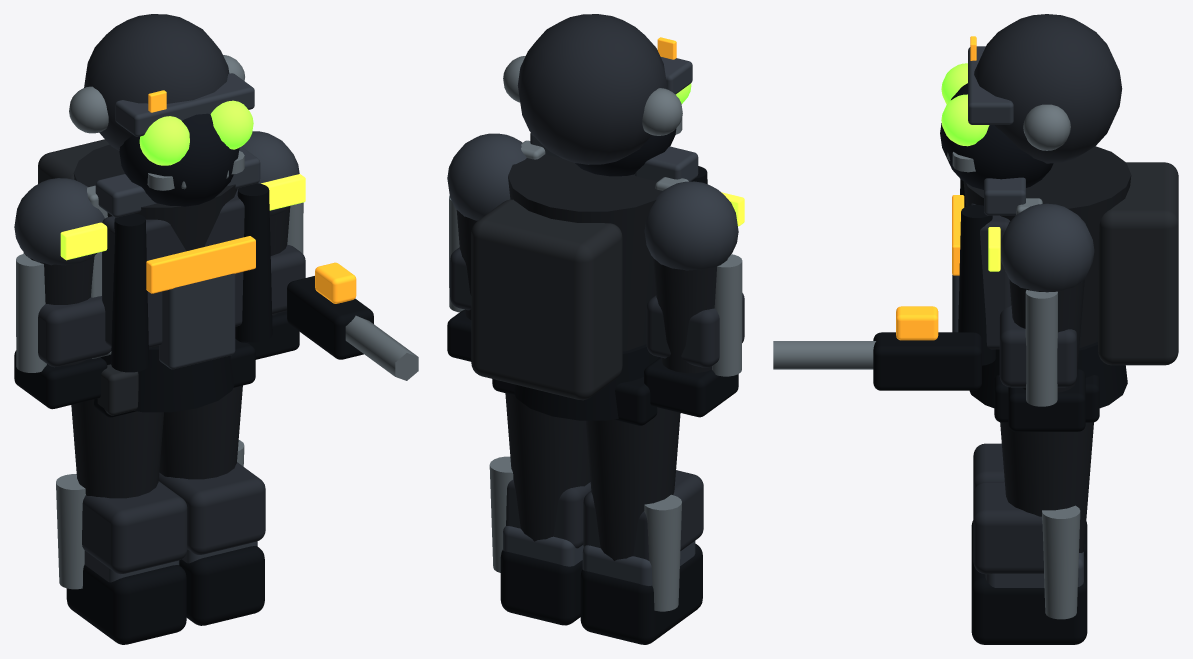
File: assault_l01.glb
The picture shows the model from 3 angles, left to right: view 1: azimuth 30°, elevation 25°; view 2: azimuth 150°, elevation 25°; view 3: azimuth 270°, elevation 25°; orthographic projection. The views are drawn at different scales.
Visible parts, largest first — view 1: shaped_knee_guard (×2), trouser (×2), boot (×2), rounded_helmet, vest_tether (×2), shoulder_joint (×2), front_plate, enclosed_mask, forearm_plate (×2), segmented_vest, waist_flex, glove (×2) (+19 smaller); view 2: field_pack, trouser (×2), rounded_helmet, shoulder_joint (×2), boot (×2), body, shin_frame (×2), shaped_knee_guard (×2), sleeve (×2), glove (×2), forearm_plate (×2), shin_plate (×2) (+7 smaller); view 3: field_pack, rounded_helmet, trouser, body, shoulder_joint, shaped_knee_guard (×2), boot, carbine_body, shin_frame, forearm_seam, enclosed_mask, vest_tether (+16 smaller).
Boxes of the visible parts, left/top/right/bottom form: shaped_knee_guard (×2): left=82, top=462, right=265, bottom=574; trouser (×2): left=71, top=385, right=242, bottom=498; boot (×2): left=66, top=546, right=264, bottom=644; rounded_helmet: left=84, top=14, right=229, bottom=150; vest_tether (×2): left=111, top=183, right=272, bottom=372; shoulder_joint (×2): left=14, top=131, right=299, bottom=265; front_plate: left=159, top=273, right=235, bottom=369; enclosed_mask: left=119, top=113, right=239, bottom=206; forearm_plate (×2): left=38, top=245, right=305, bottom=367; segmented_vest: left=102, top=188, right=244, bottom=347; waist_flex: left=100, top=347, right=234, bottom=412; glove (×2): left=14, top=311, right=299, bottom=409; field_pack: left=471, top=199, right=622, bottom=400; trouser (×2): left=505, top=393, right=680, bottom=560; rounded_helmet: left=517, top=14, right=667, bottom=164; shoulder_joint (×2): left=447, top=133, right=738, bottom=270; boot (×2): left=500, top=543, right=702, bottom=644; body: left=508, top=154, right=661, bottom=351; shin_frame (×2): left=489, top=456, right=681, bottom=611; shaped_knee_guard (×2): left=506, top=470, right=703, bottom=560; sleeve (×2): left=456, top=210, right=727, bottom=373; glove (×2): left=447, top=310, right=738, bottom=417; forearm_plate (×2): left=450, top=247, right=744, bottom=367; shin_plate (×2): left=503, top=526, right=695, bottom=585; field_pack: left=1098, top=162, right=1178, bottom=365; rounded_helmet: left=974, top=14, right=1122, bottom=163; trouser: left=1000, top=422, right=1093, bottom=552; body: left=963, top=146, right=1131, bottom=347; shoulder_joint: left=1000, top=203, right=1094, bottom=292; shaped_knee_guard (×2): left=973, top=443, right=1043, bottom=574; boot: left=971, top=556, right=1087, bottom=644; carbine_body: left=873, top=332, right=981, bottom=390; shin_frame: left=1042, top=505, right=1080, bottom=619; forearm_seam: left=1025, top=290, right=1057, bottom=406; enclosed_mask: left=940, top=83, right=1053, bottom=189; vest_tether: left=958, top=205, right=996, bottom=365.
Size of the model in its own units: 0.9406 by 1.86 by 1.16.
